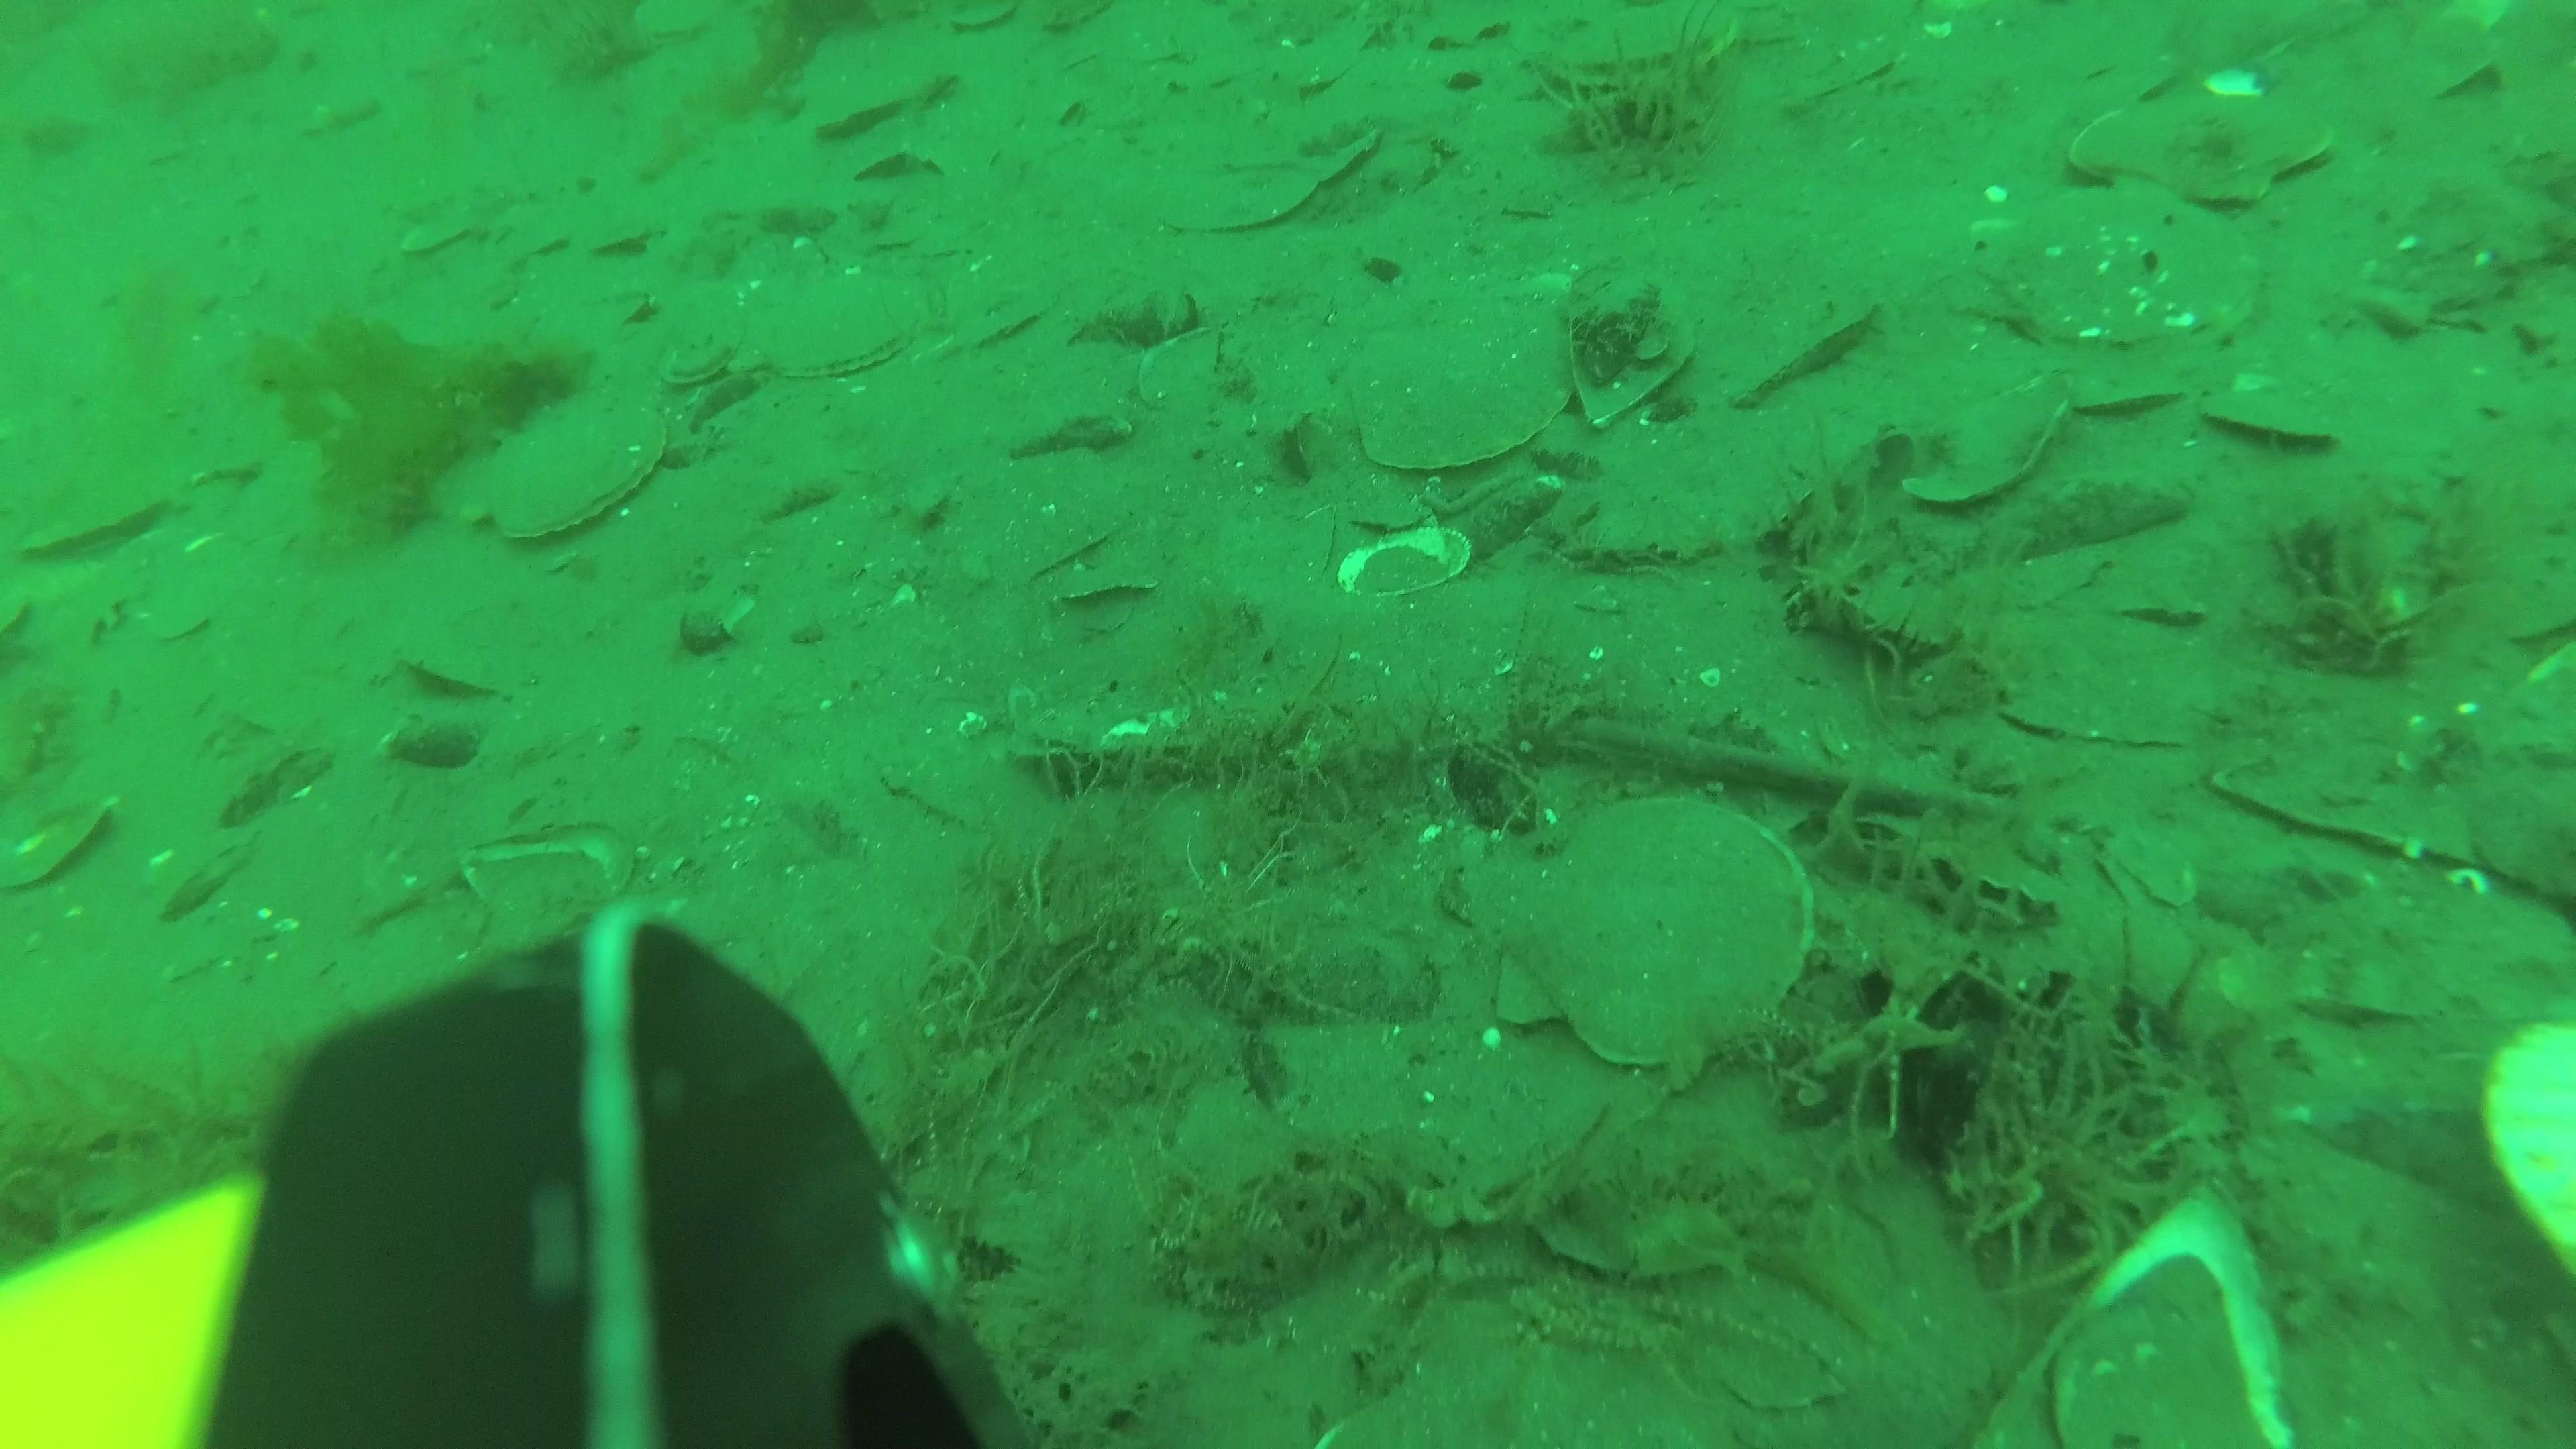scallop: (1476, 787, 1815, 1077), (1994, 175, 2258, 343), (1339, 310, 1587, 481), (2077, 78, 2330, 209), (479, 396, 674, 545), (759, 258, 948, 389), (1911, 352, 2058, 513), (1725, 278, 1902, 409), (1555, 7, 1766, 103), (11, 479, 177, 575), (809, 64, 959, 150), (2197, 377, 2335, 460), (656, 326, 752, 396), (628, 2, 725, 46)
